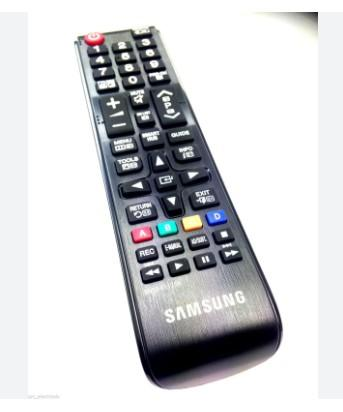Remote control: (74, 25, 283, 392)
